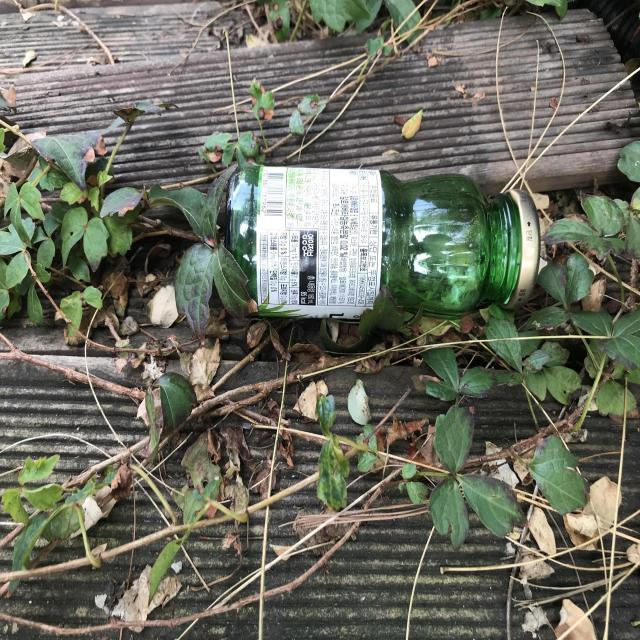glass: (225, 166, 541, 318)
